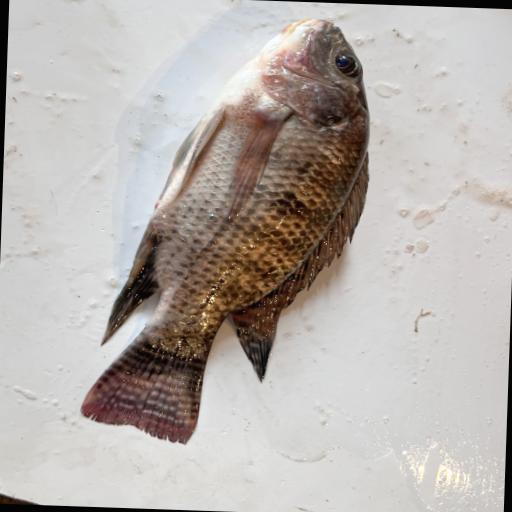Tilapia: (77, 8, 377, 452)
